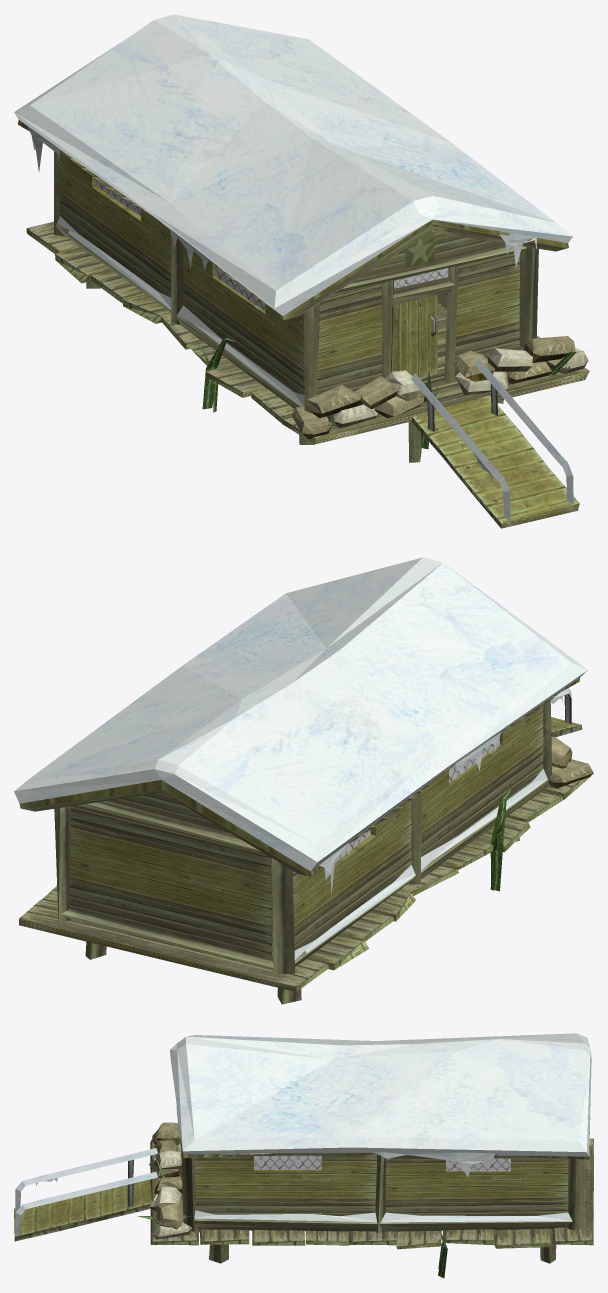
File: C1SMHUT1SNH.obj
3 views of the same model, one above another, from view 1: azimuth 30°, elevation 25°; view 2: azimuth 150°, elevation 25°; view 3: azimuth 270°, elevation 25° (orthographic). The views are drawn at different scales.
Parts seen in each view (by area): view 1: Node 0; view 2: Node 0; view 3: Node 0.
Boxes of the visible parts, left/top/right/bottom form: Node 0: left=14, top=14, right=589, bottom=528; Node 0: left=14, top=557, right=593, bottom=1004; Node 0: left=14, top=1033, right=593, bottom=1278.
Size of the model in its own units: 8.29 by 6.09 by 17.05.
Materials: 9 (9 with a texture image).
